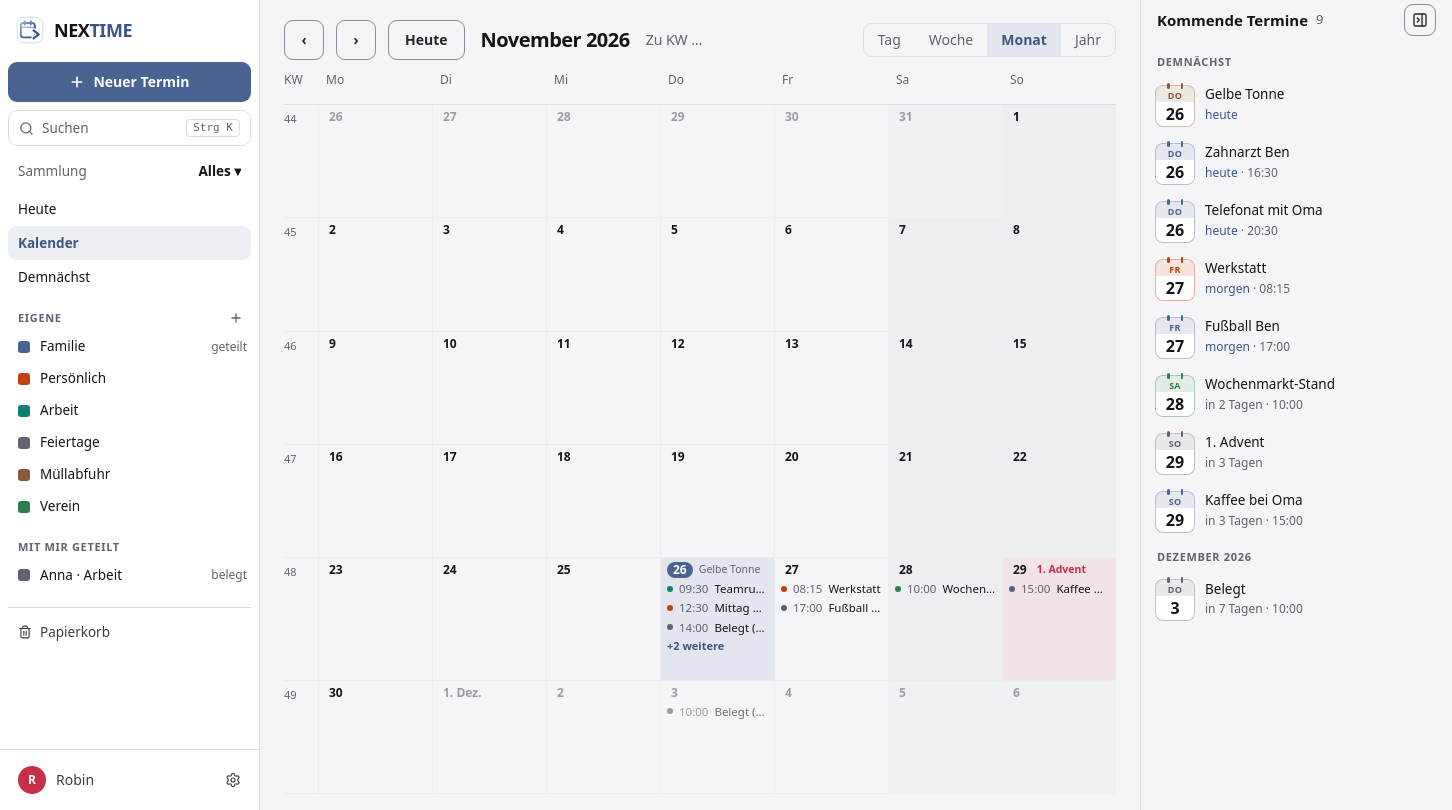
Test: TIME-13 "Nur diesen zeigen" › TIME-13 click shows the calendar alone in the view on screen and the row chosen; again ends it, the view stays; the eye changes only the showing
The image size is (1452, 810).
Later steps or results of the test are not shown.
Click the button with test id "calendar-toggle" showing "Verein" at (128, 506), box [8,490,247,522]
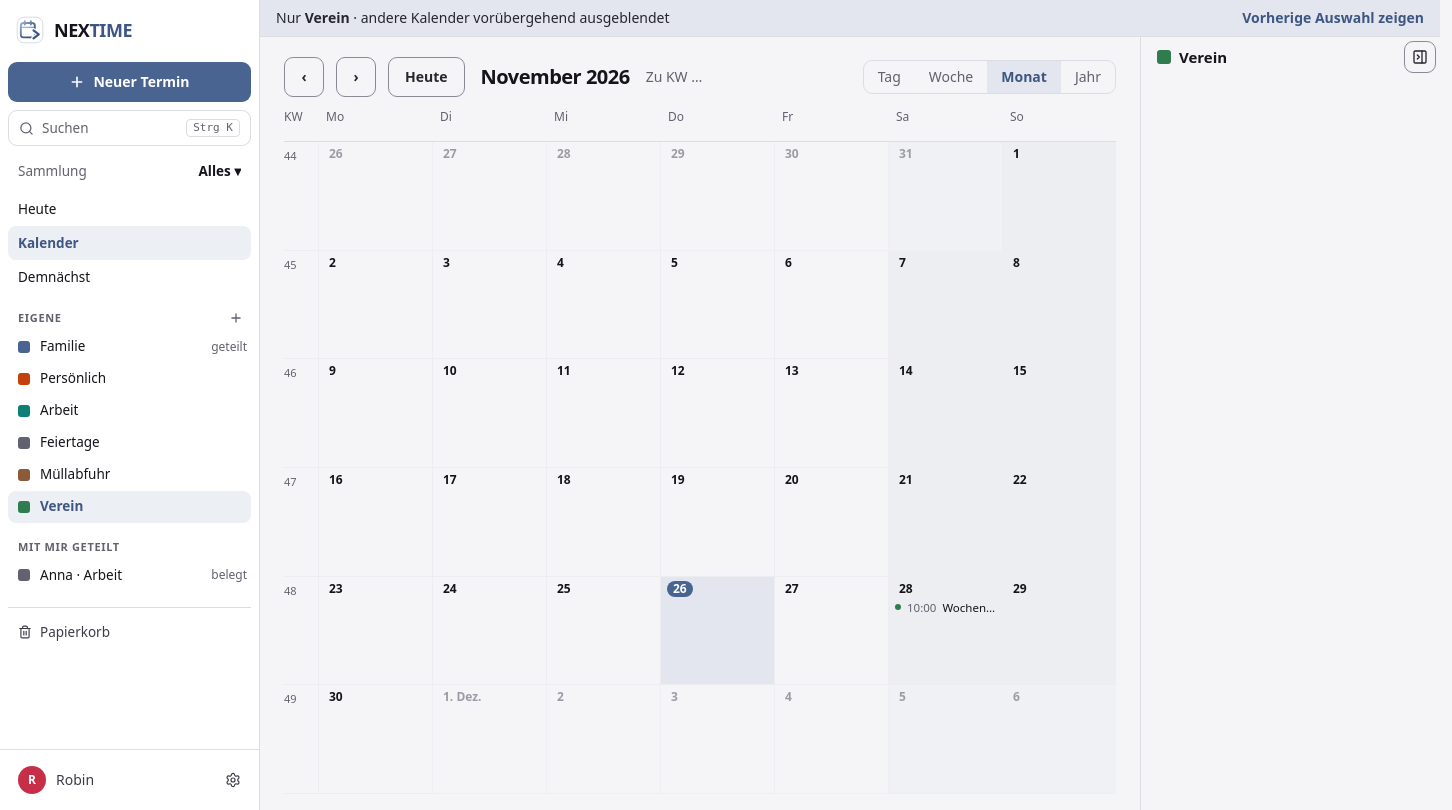
Expected: the list item with test id "calendar-toggle" has class "nt-chosen", [8,490,251,522]
Expected: the button with test id "calendar-toggle" is pressed, [8,490,247,522]
